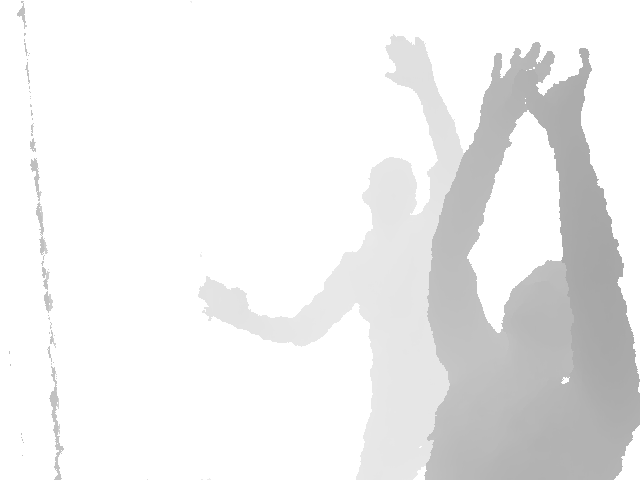hand: (479, 41, 555, 130), (524, 47, 593, 129), (196, 274, 250, 335), (384, 33, 438, 86)
head: (502, 259, 573, 382), (363, 157, 418, 215)
person: (196, 34, 466, 480), (423, 41, 640, 480)
